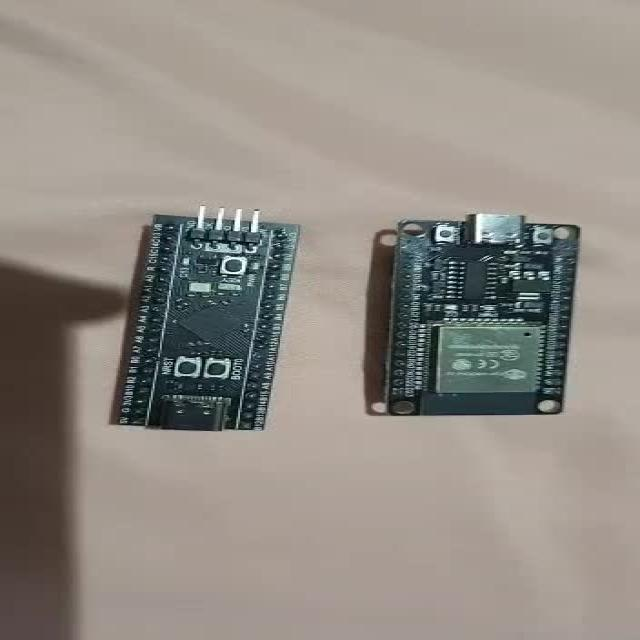ESP32: (382, 214, 580, 416)
STM32: (113, 207, 299, 432)
